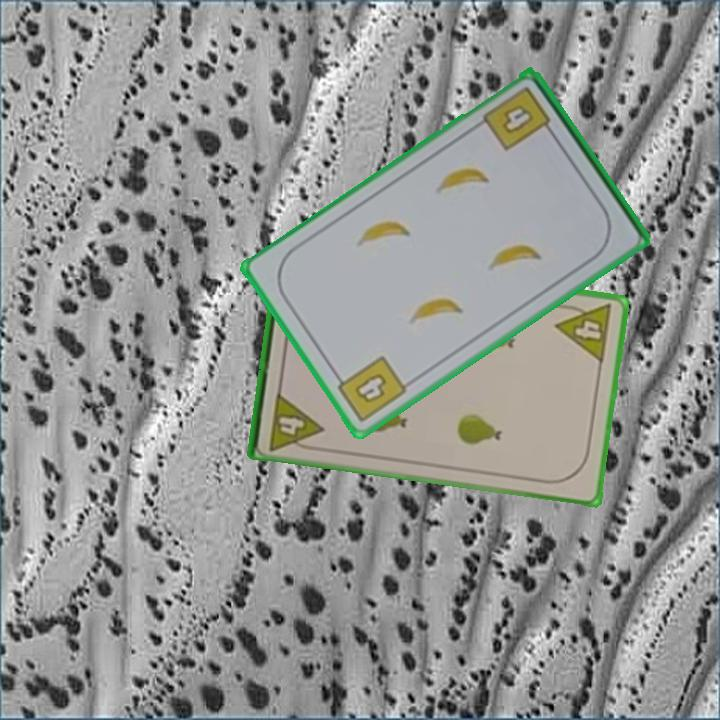4b: (330, 352, 410, 426), (479, 82, 558, 154)
4p: (552, 299, 615, 366), (265, 388, 326, 454)
